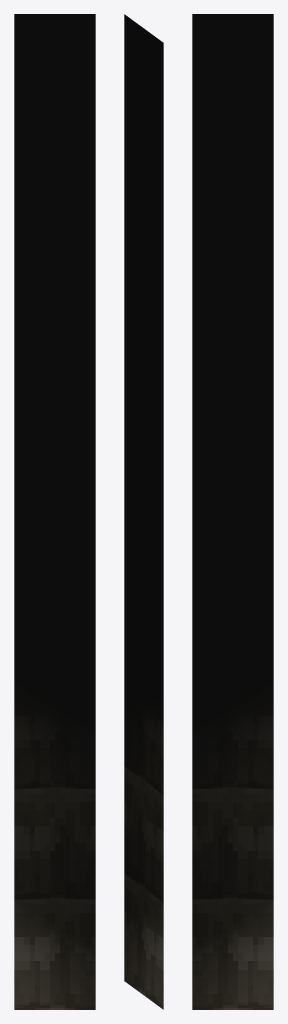
The picture shows the model from 3 angles, left to right: view 1: azimuth 90°, elevation 25°; view 2: azimuth 210°, elevation 25°; view 3: azimuth 270°, elevation 25°; orthographic projection. The views are drawn at different scales.
Bounding box in the file's own units: 0 × 13.5 × 1.
Materials: 1 (1 with a texture image).
